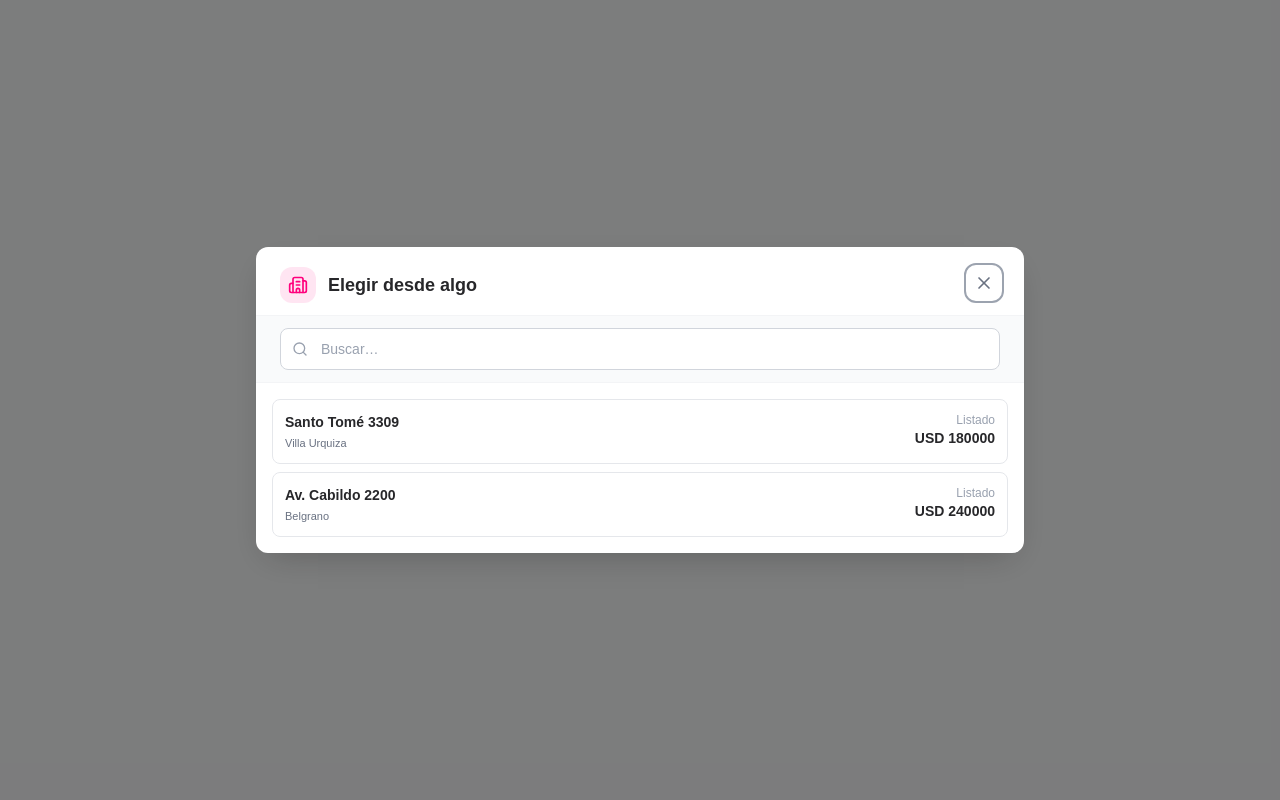
ComparablePickerModal › el buscador filtra en cliente sobre `searchable`
Check: the text "Santo Tomé 3309" is shown, box [285,412,399,432]
Type "belgrano" into the field labelled "Buscar" at (640, 349), box [280,328,1000,370]
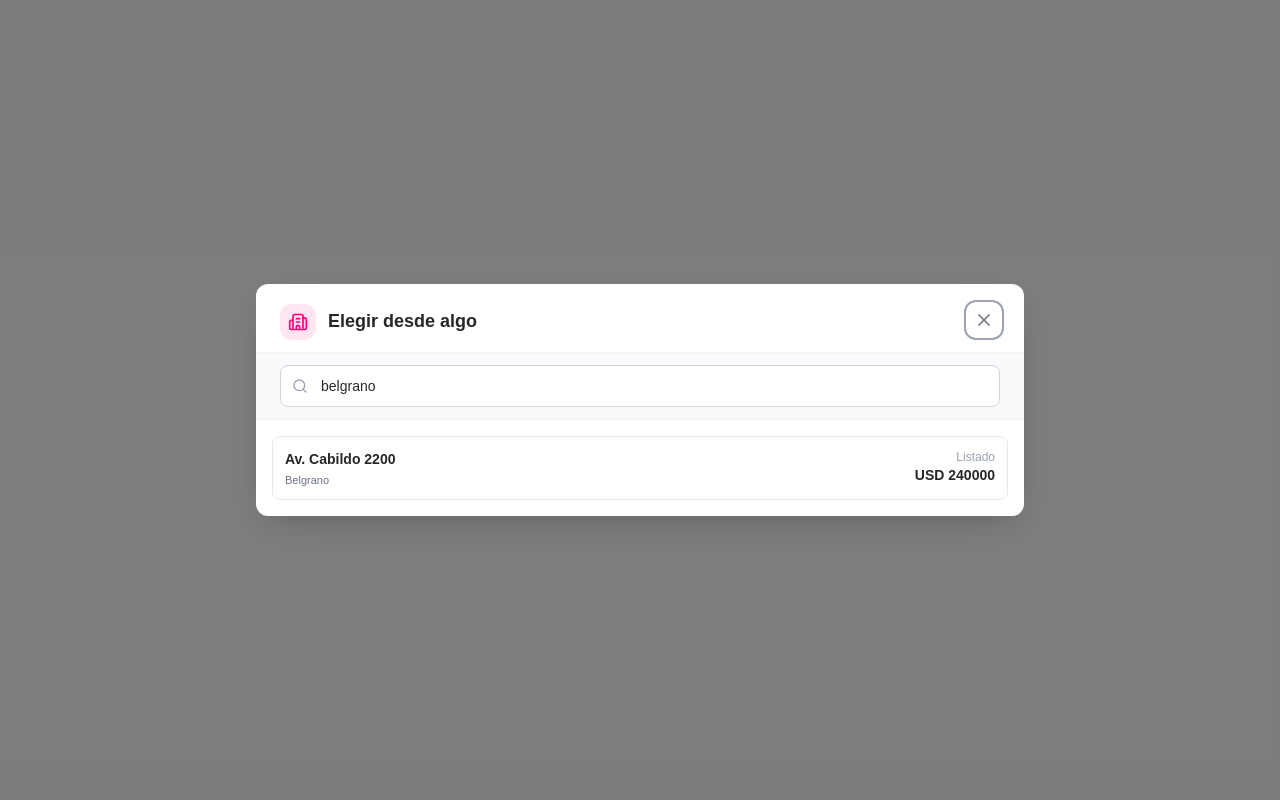
Check: the text "Av. Cabildo 2200" is shown, box [285,449,396,469]
Check: the button "Santo Tomé 3309" is gone
